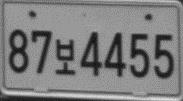4: (78, 30, 103, 77), (103, 31, 126, 78)
5: (153, 34, 174, 79), (129, 32, 149, 78)
7: (29, 29, 52, 75)
8: (7, 29, 29, 74)
보: (54, 38, 76, 76)
